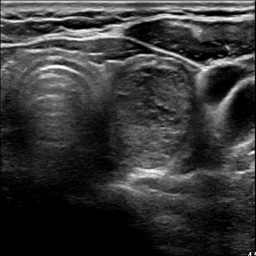mass: (116, 63, 189, 166)
